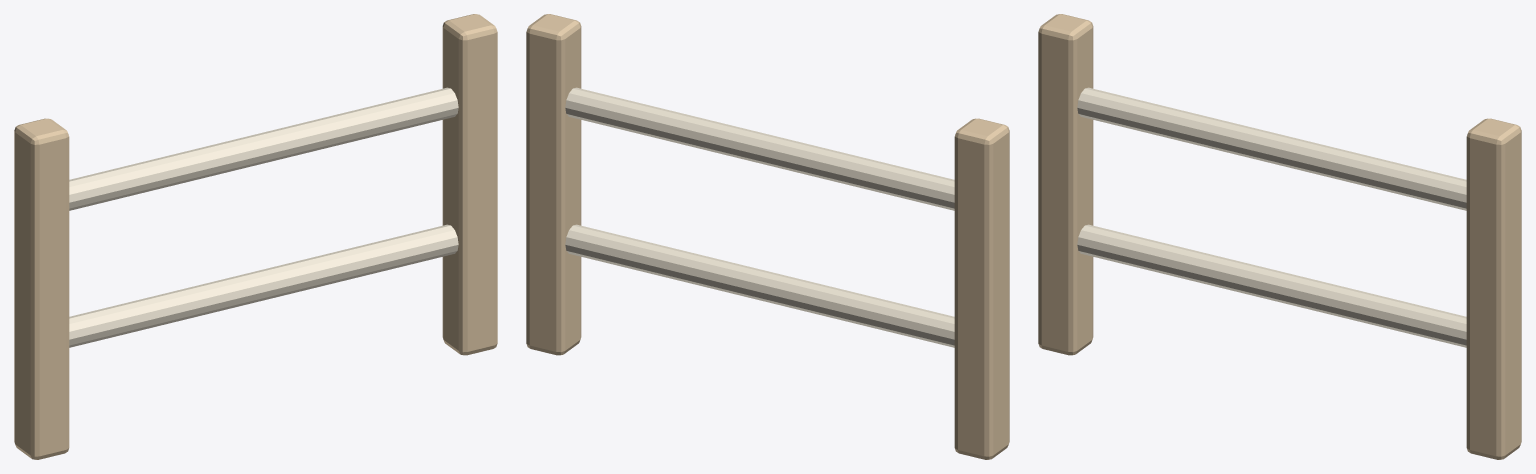
The model's file is fence.glb.
3 views of the same model, side by side, from view 1: azimuth 30°, elevation 25°; view 2: azimuth 150°, elevation 25°; view 3: azimuth 330°, elevation 25° (orthographic).
Visible parts, largest first — view 1: Post.004, Post.005, Rail, Rail.001; view 2: Post.004, Post.005, Rail, Rail.001; view 3: Post.005, Post.004, Rail, Rail.001.
Part boxes in pixels (x1,y1,x2,y2): Post.004: [14, 118, 69, 459]; Post.005: [442, 14, 497, 355]; Rail: [69, 224, 458, 347]; Rail.001: [69, 87, 458, 210]; Post.004: [954, 118, 1009, 459]; Post.005: [526, 14, 581, 355]; Rail: [565, 224, 954, 347]; Rail.001: [565, 87, 954, 210]; Post.005: [1466, 118, 1521, 459]; Post.004: [1038, 14, 1093, 355]; Rail: [1077, 224, 1466, 347]; Rail.001: [1077, 87, 1466, 210].
Size of the model in its own units: 1.96 by 1.3 by 0.16.
